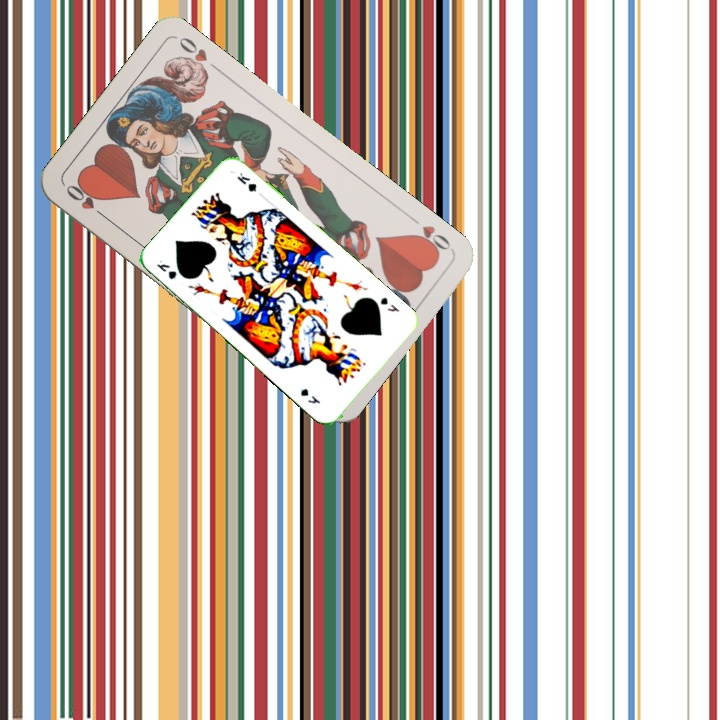GK: (152, 255, 179, 282), (376, 293, 402, 314)
HO: (62, 180, 111, 223), (407, 221, 454, 259)
